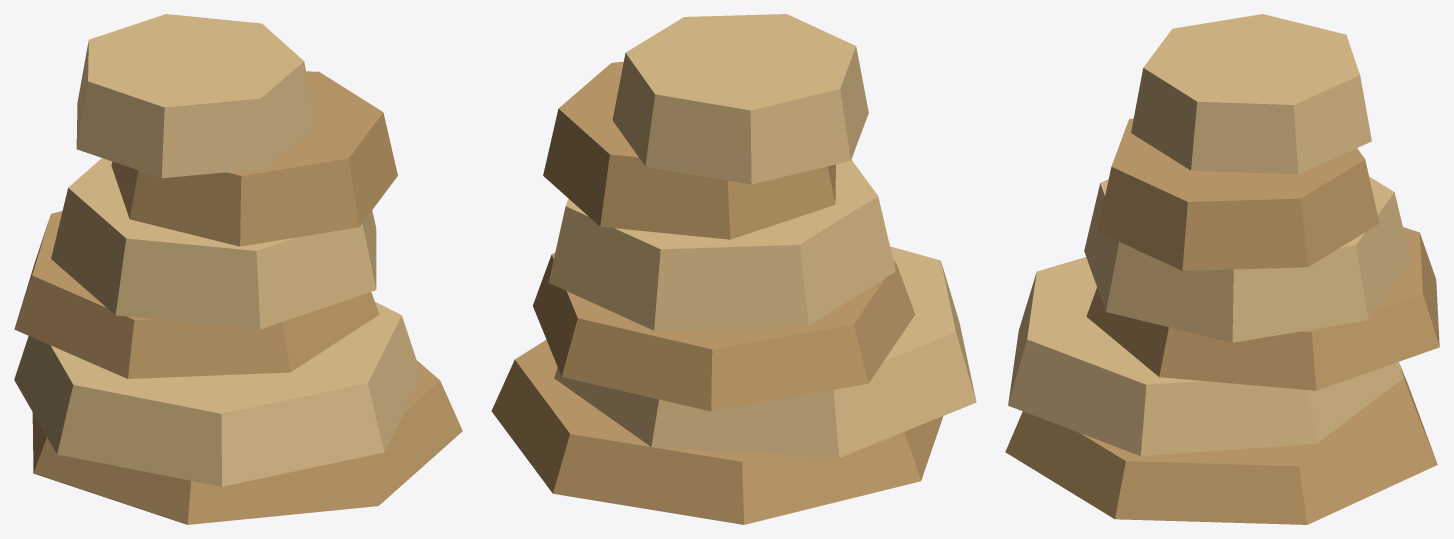
File: map3_dune_rock_c_v01.glb
3 views of the same model, side by side, from view 1: azimuth 30°, elevation 25°; view 2: azimuth 150°, elevation 25°; view 3: azimuth 270°, elevation 25° (orthographic). The views are drawn at different scales.
Parts seen in each view (by area): view 1: dune_rock; view 2: dune_rock; view 3: dune_rock.
Boxes of the visible parts, x1,y1,x2,y2 form: dune_rock: [14, 14, 462, 524]; dune_rock: [491, 14, 976, 524]; dune_rock: [1005, 14, 1439, 524].
Bounding box in the file's own units: 3.6 × 3.23 × 3.52.
